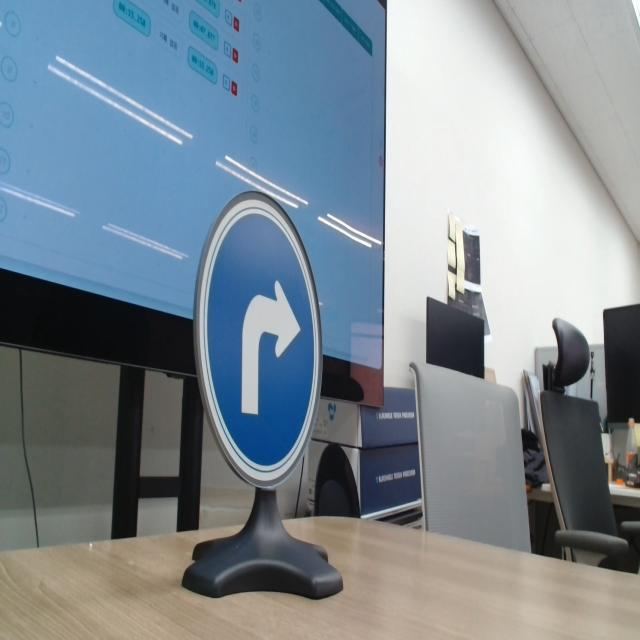right_dierection: (186, 171, 340, 515)
